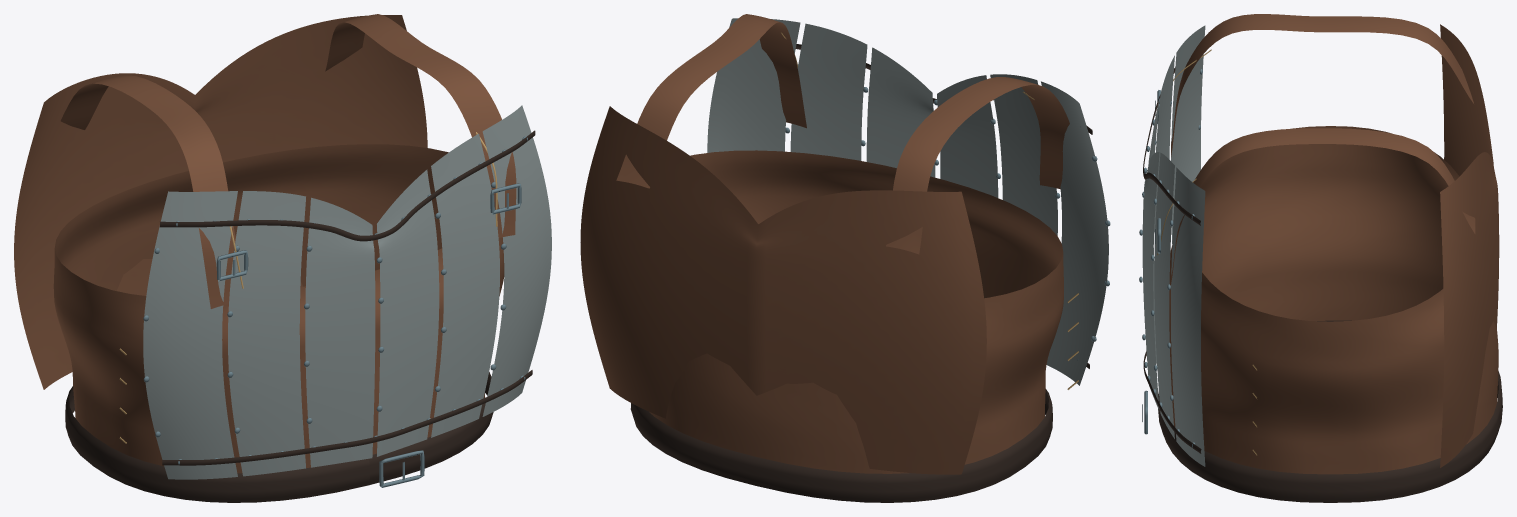
Rendered from riveted_vest.glb.
3 views of the same model, side by side, from view 1: azimuth 30°, elevation 25°; view 2: azimuth 150°, elevation 25°; view 3: azimuth 270°, elevation 25° (orthographic). The views are drawn at different scales.
Parts seen in each view (by area): view 1: crate-riveted_vest-cuirass-surface-0, crate-riveted_vest-cuirass-surface-3, crate-riveted_vest-cuirass-surface-4, crate-riveted_vest-cuirass-surface-2; view 2: crate-riveted_vest-cuirass-surface-0, crate-riveted_vest-cuirass-surface-3, crate-riveted_vest-cuirass-surface-4; view 3: crate-riveted_vest-cuirass-surface-0, crate-riveted_vest-cuirass-surface-3, crate-riveted_vest-cuirass-surface-4, crate-riveted_vest-cuirass-surface-2.
Boxes of the visible parts, left/top/right/bottom form: crate-riveted_vest-cuirass-surface-0: left=14, top=14, right=516, bottom=473; crate-riveted_vest-cuirass-surface-3: left=143, top=105, right=551, bottom=479; crate-riveted_vest-cuirass-surface-4: left=65, top=130, right=535, bottom=502; crate-riveted_vest-cuirass-surface-2: left=143, top=136, right=527, bottom=487; crate-riveted_vest-cuirass-surface-0: left=580, top=14, right=1069, bottom=474; crate-riveted_vest-cuirass-surface-3: left=707, top=18, right=1108, bottom=385; crate-riveted_vest-cuirass-surface-4: left=630, top=44, right=1092, bottom=502; crate-riveted_vest-cuirass-surface-0: left=1169, top=14, right=1499, bottom=474; crate-riveted_vest-cuirass-surface-3: left=1142, top=25, right=1205, bottom=466; crate-riveted_vest-cuirass-surface-4: left=1143, top=67, right=1502, bottom=502; crate-riveted_vest-cuirass-surface-2: left=1139, top=69, right=1202, bottom=447.
Size of the model in its own units: 0.8881 by 0.7125 by 0.6979.
